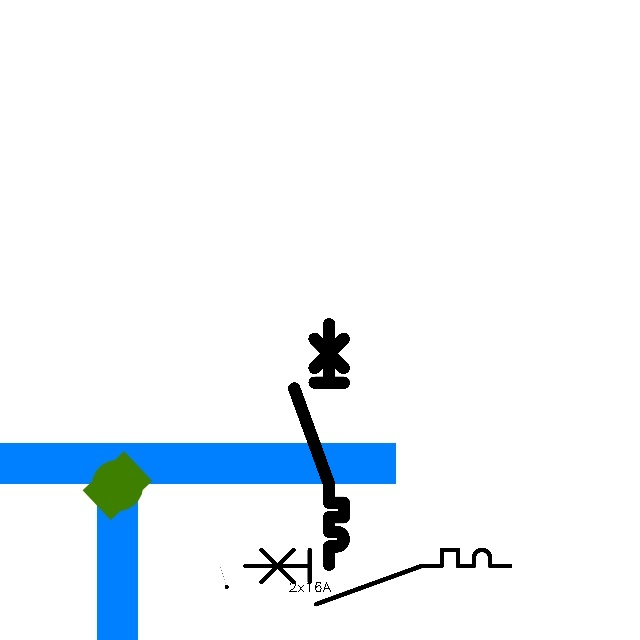interruptor_termomagnetico: (238, 543, 517, 611), (288, 318, 350, 571)
